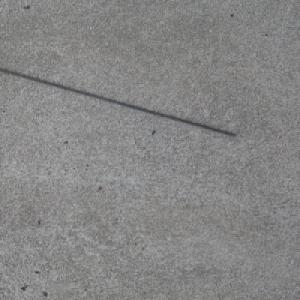LuggagePart: (0, 67, 237, 138)
